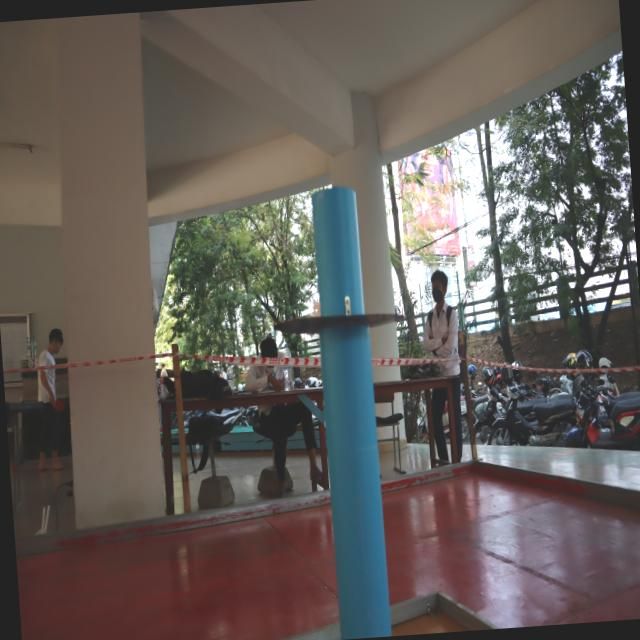pole: (256, 167, 426, 529)
